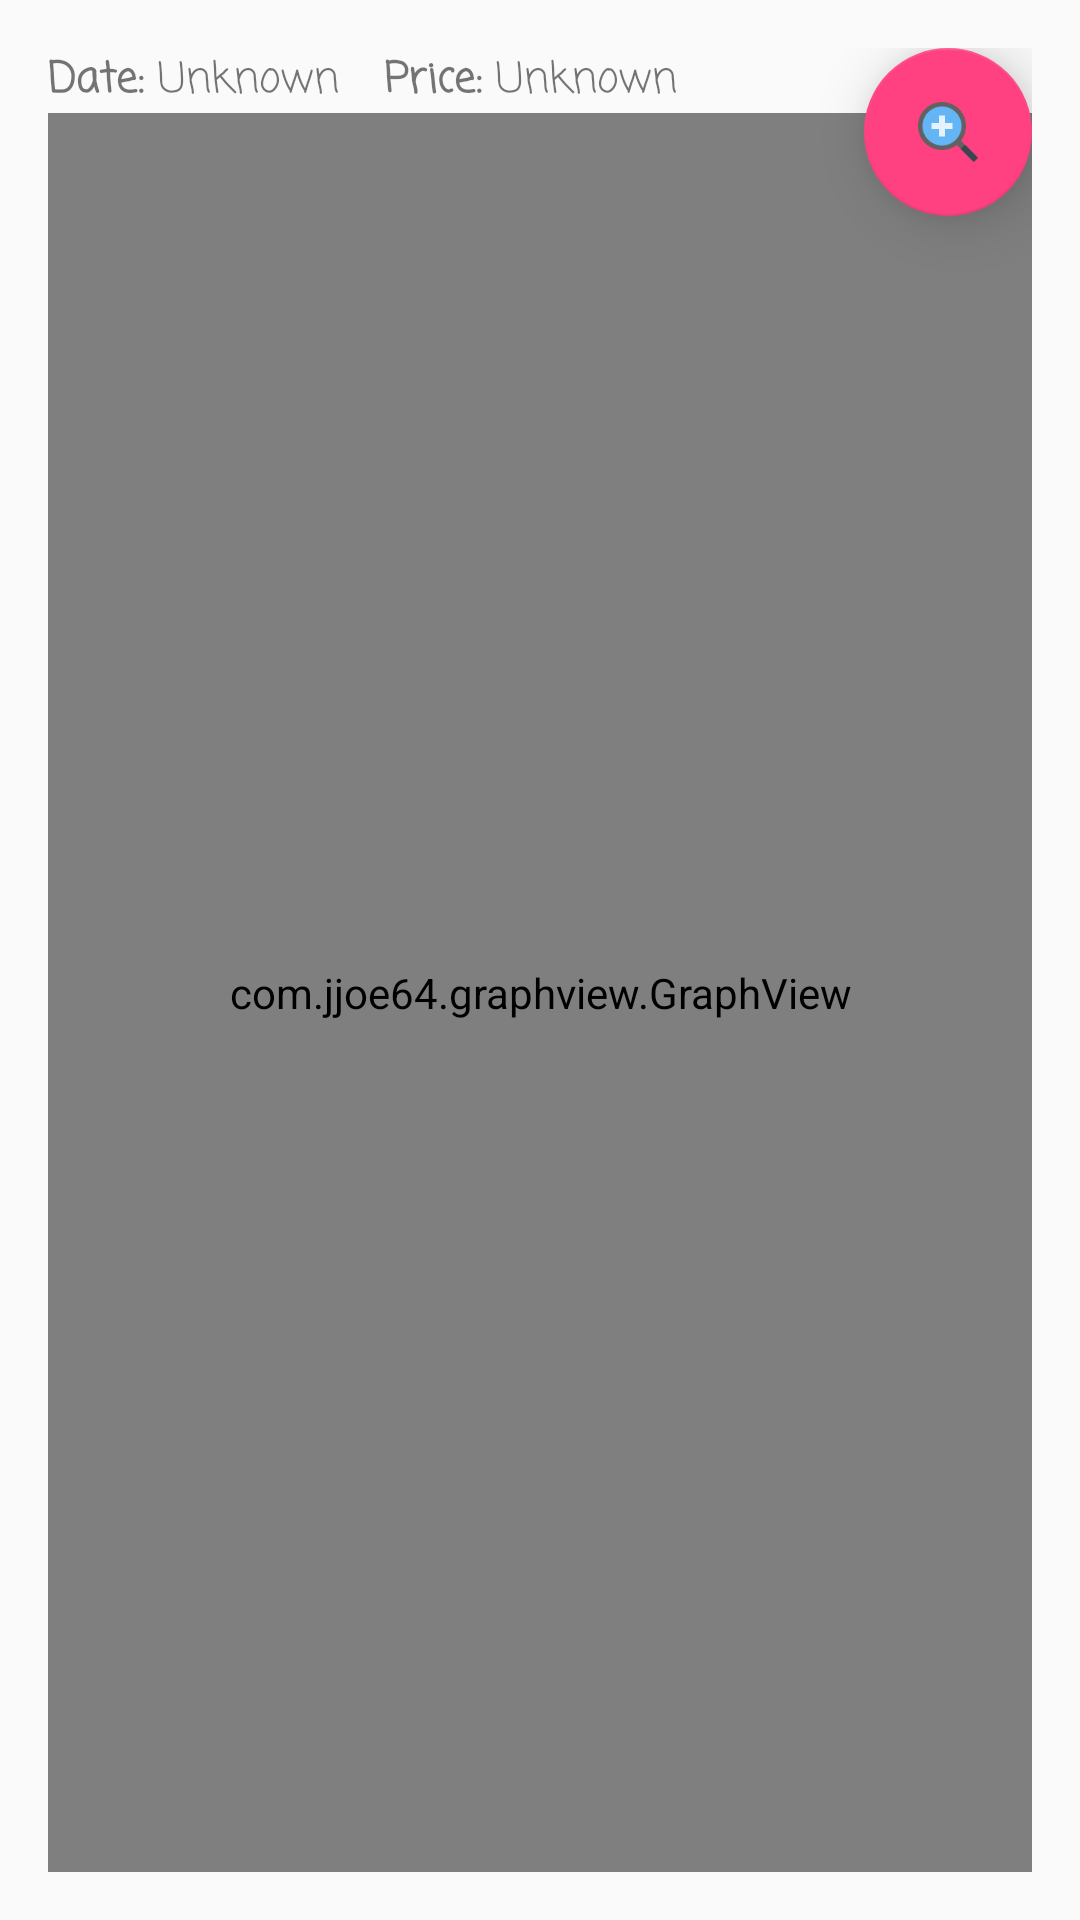

Icon bounding boxes for this 1080px×1920px phone screenshot, format [x1,y1,x2,y2]:
zoom: [864,48,1032,216]
